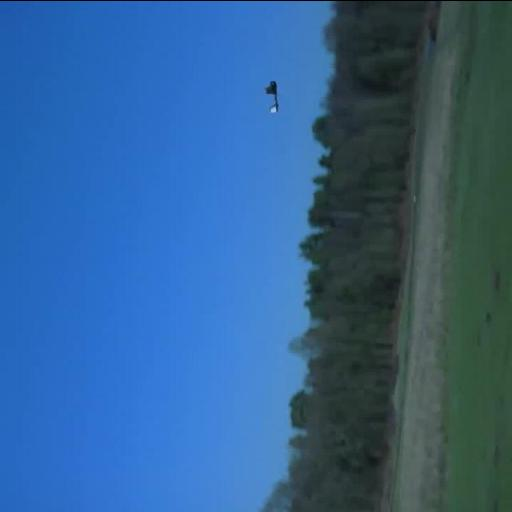uav: (258, 79, 292, 119)
